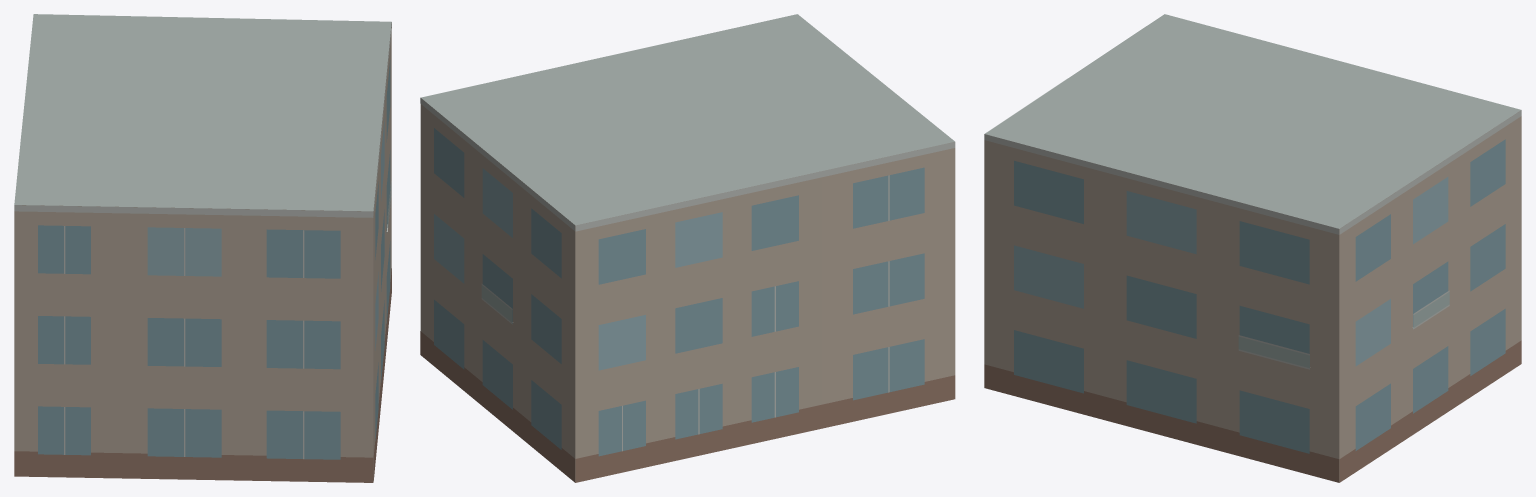
The model's file is survey-upis-32949423.glb.
The picture shows the model from 3 angles, left to right: view 1: azimuth 30°, elevation 25°; view 2: azimuth 150°, elevation 25°; view 3: azimuth 270°, elevation 25°; orthographic projection. The views are drawn at different scales.
Visible parts, largest first — view 1: survey-upis-32949423.tmp; view 2: survey-upis-32949423.tmp; view 3: survey-upis-32949423.tmp.
Part boxes in pixels (x1=…): survey-upis-32949423.tmp: x1=14, y1=14, x2=391, y2=482; survey-upis-32949423.tmp: x1=420, y1=14, x2=955, y2=482; survey-upis-32949423.tmp: x1=984, y1=14, x2=1521, y2=482.
Size of the model in its own units: 18.51 by 10.2 by 19.56.
